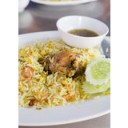briyani: (18, 45, 85, 105)
